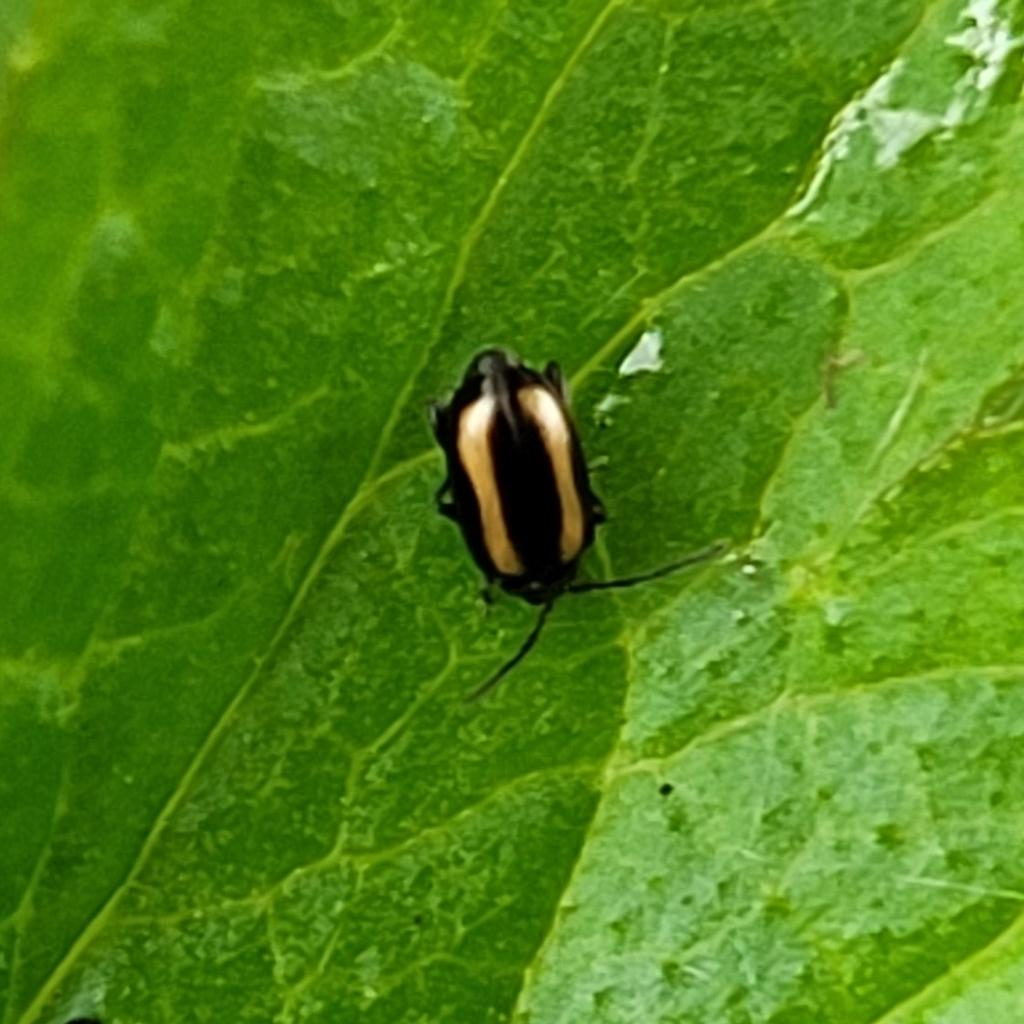flea_beetle: (365, 295, 763, 741)
